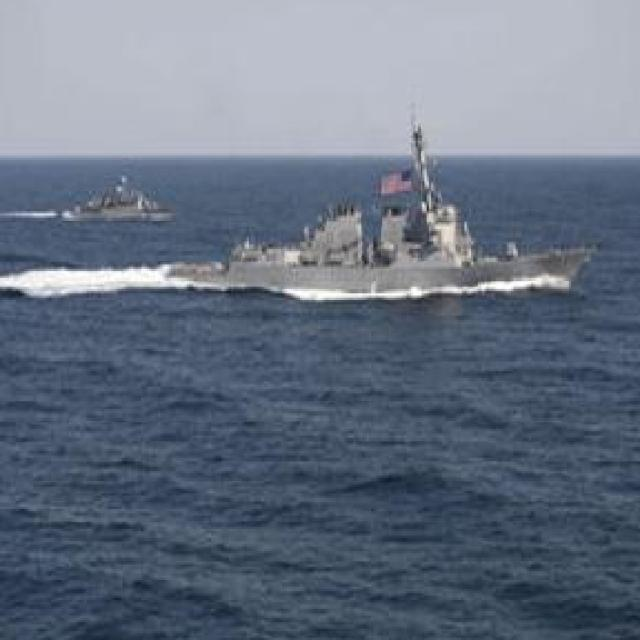navalvessels: (182, 104, 590, 297), (69, 174, 177, 226)
